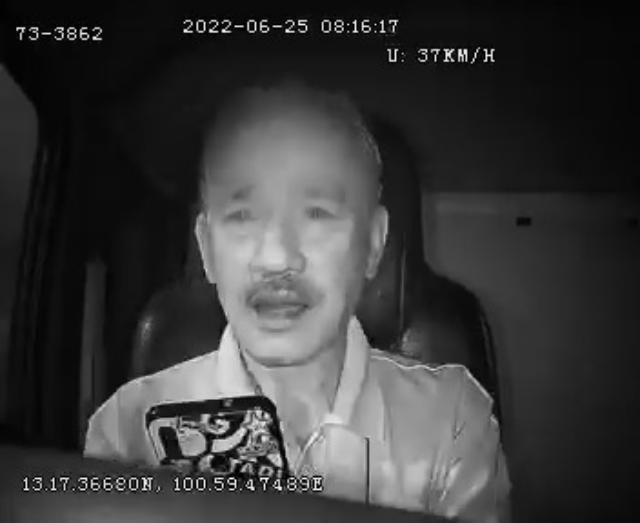PhoneUse: (144, 396, 290, 474)
SafeDriving: (214, 189, 268, 236), (294, 186, 347, 230)
